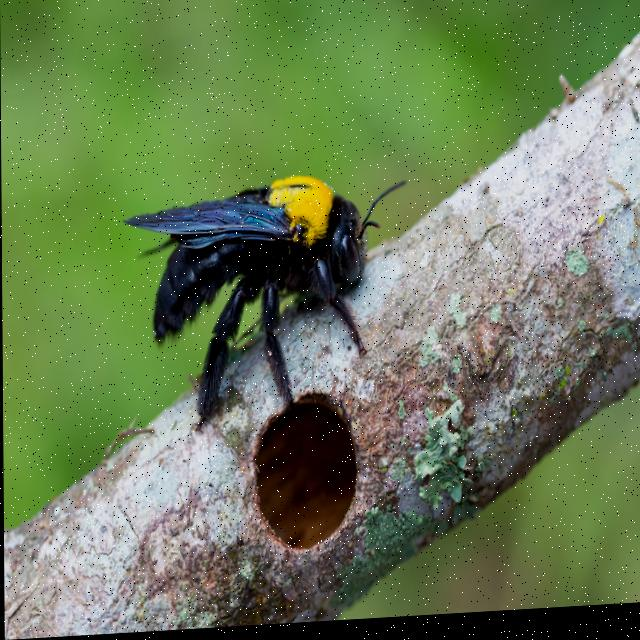Xylocopa: (124, 154, 405, 421)
